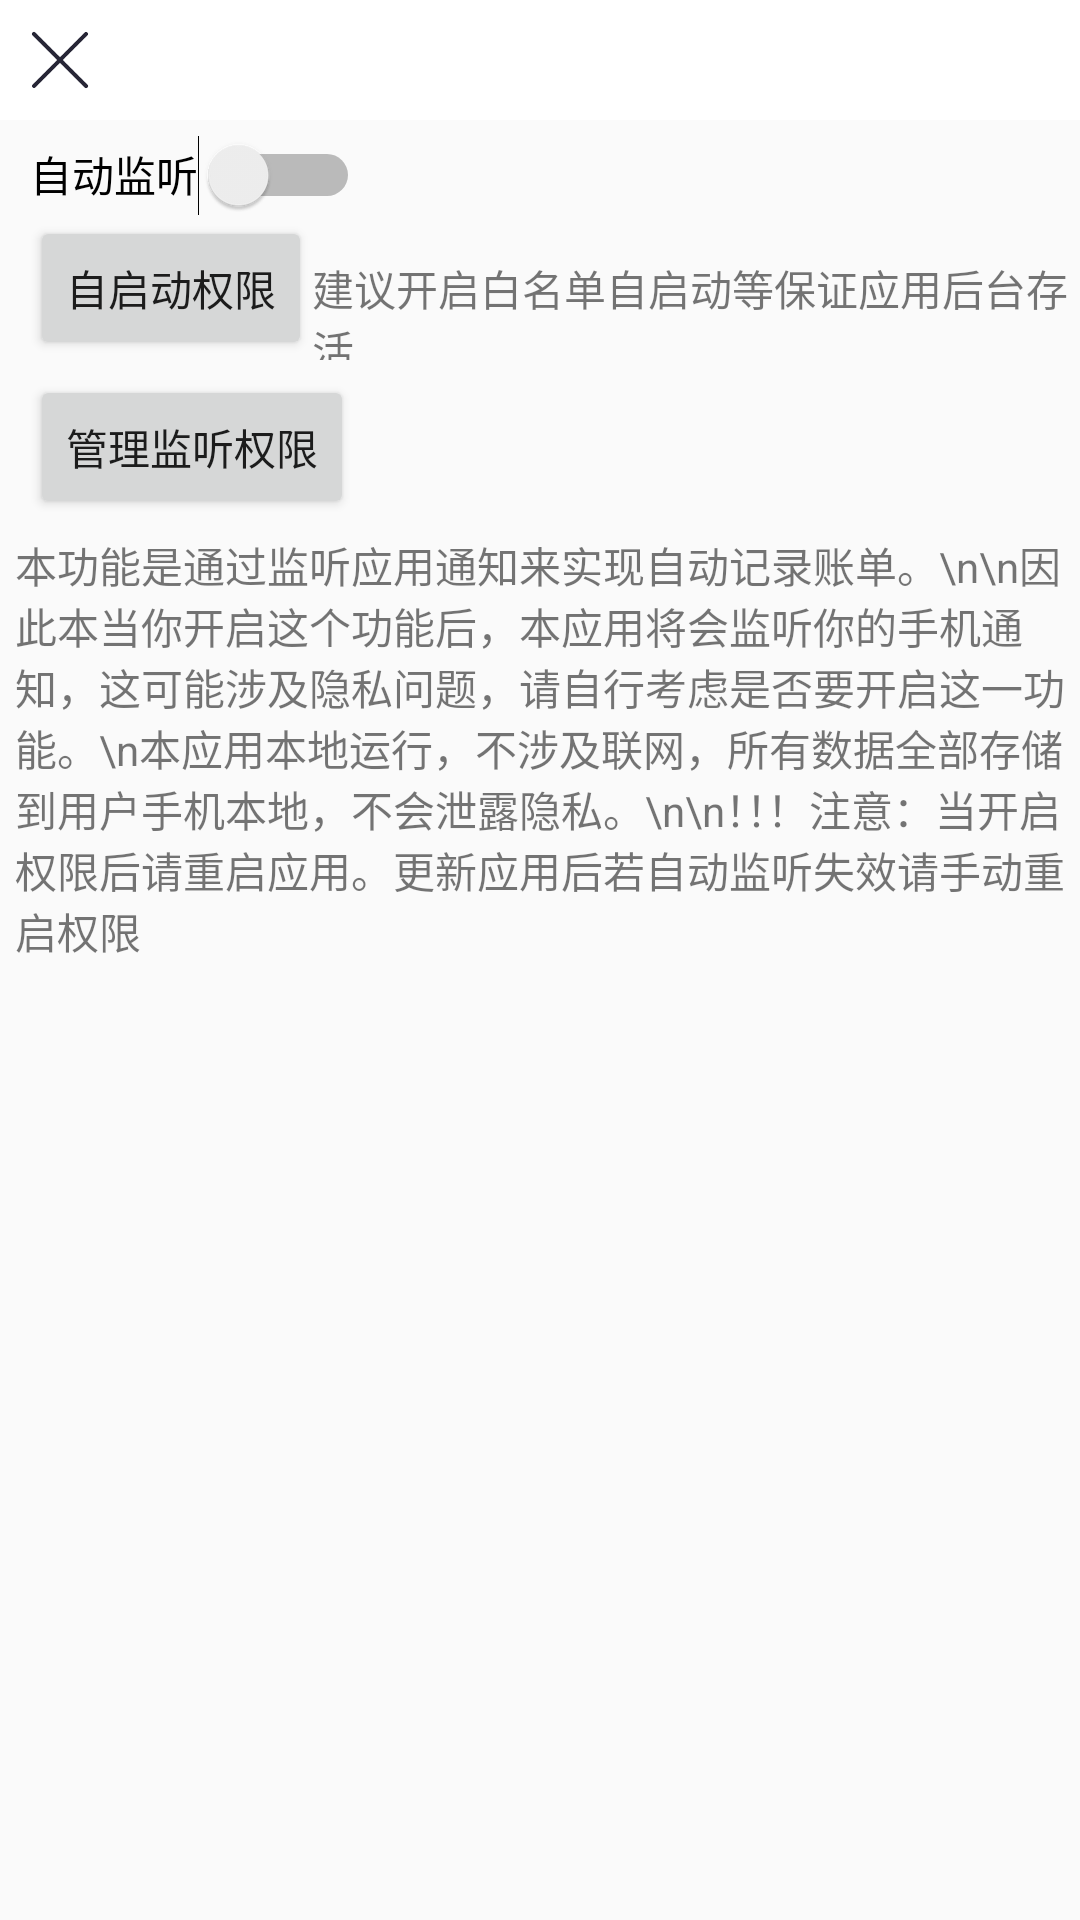

Locate icon controls on the screen. Image size 1080 × 1920, boxes as BBox(x1, y1, x2, y2).
return: BBox(32, 32, 88, 88)
